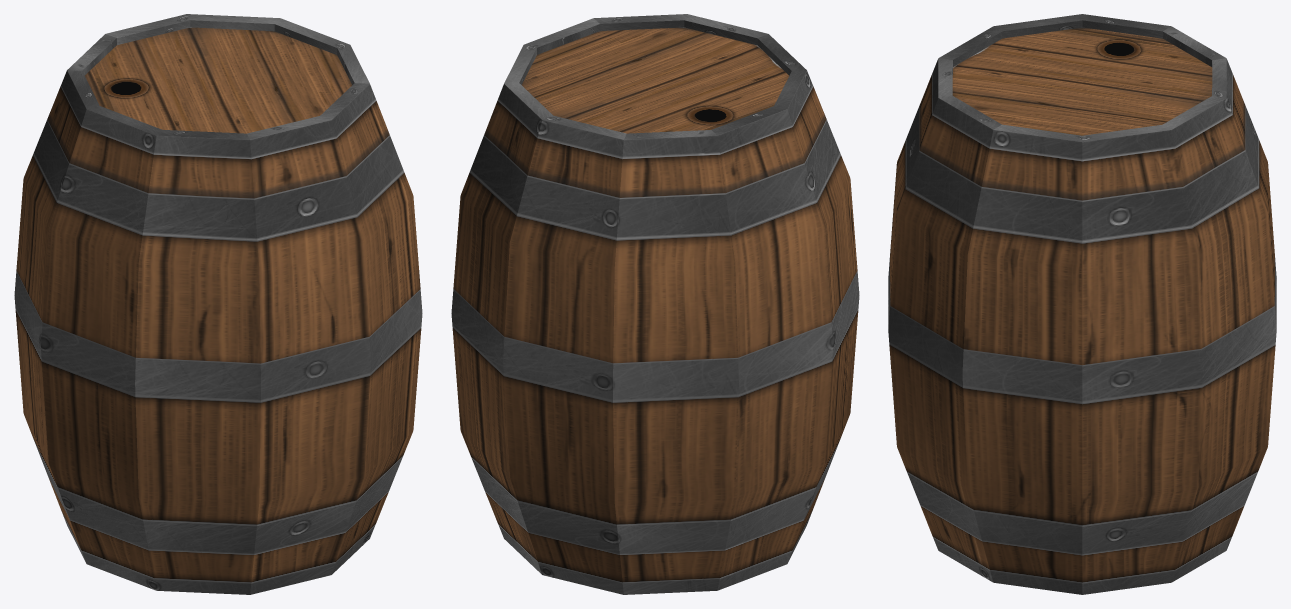
The model's file is barrel.fbx.
3 views of the same model, side by side, from view 1: azimuth 30°, elevation 25°; view 2: azimuth 150°, elevation 25°; view 3: azimuth 270°, elevation 25° (orthographic).
Parts seen in each view (by area): view 1: barrel1; view 2: barrel1; view 3: barrel1.
Part boxes in pixels (box(x1,y1,x2,y2)): barrel1: box(14, 14, 422, 594); barrel1: box(451, 14, 859, 594); barrel1: box(888, 14, 1276, 594).
Size of the model in its own units: 89.29 by 109 by 84.92.
1 material, 1 textured.
